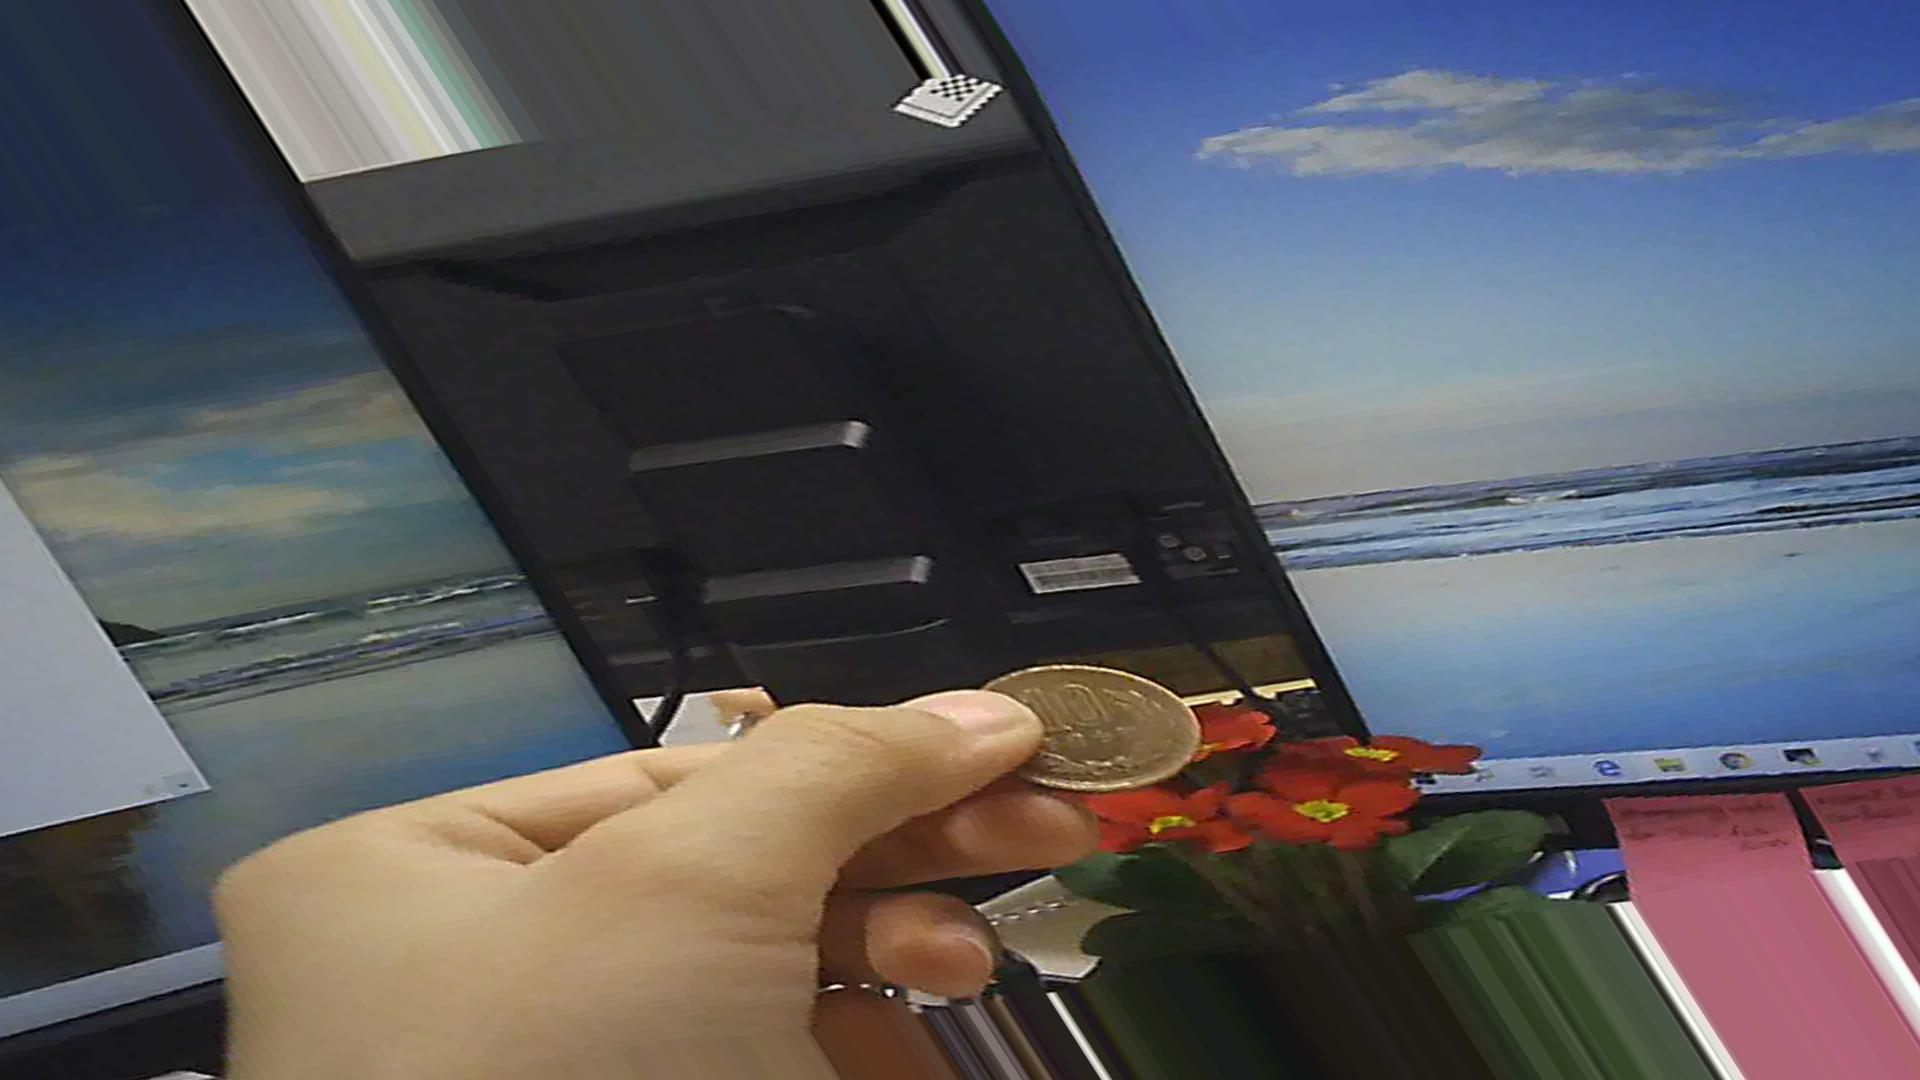10 Yen: (959, 655, 1189, 793)
